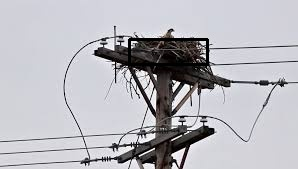bird-nest: (133, 29, 205, 65)
